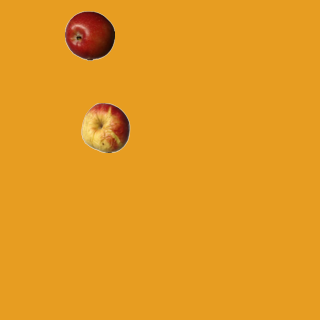Apple Braeburn: (64, 10, 114, 60)
Apple Red Yellow 1: (80, 102, 130, 152)
